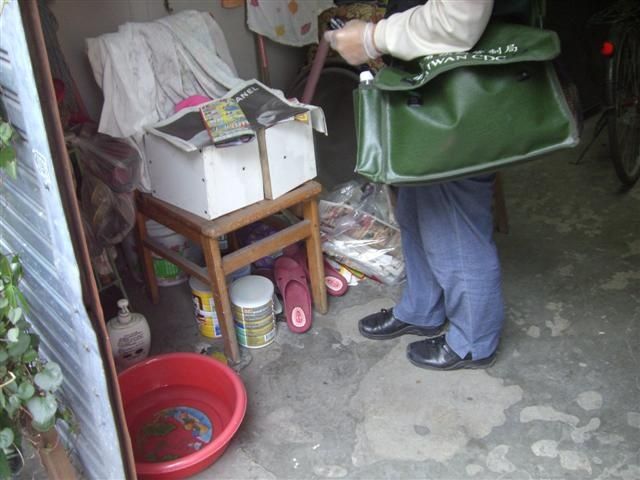bottle: (228, 273, 277, 351), (188, 266, 224, 339)
bowl: (116, 351, 249, 480)
box: (145, 132, 265, 222), (258, 111, 317, 202)
plastic_bag: (316, 178, 406, 286)
